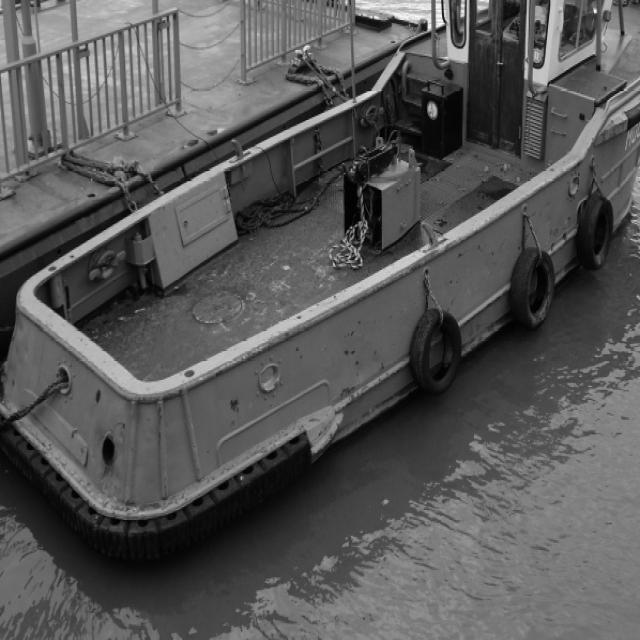tugboat: (1, 1, 640, 568)
